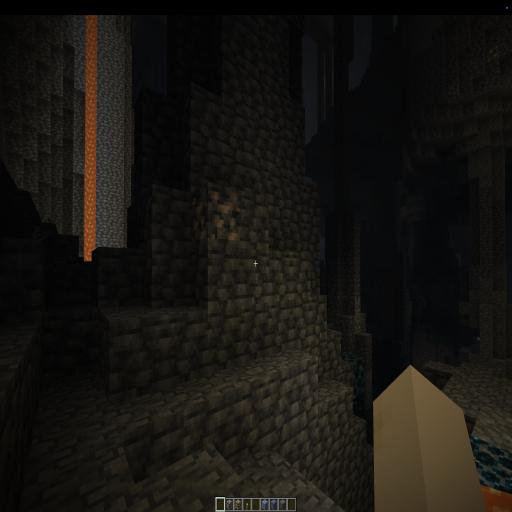iron ore: (191, 181, 242, 249)
